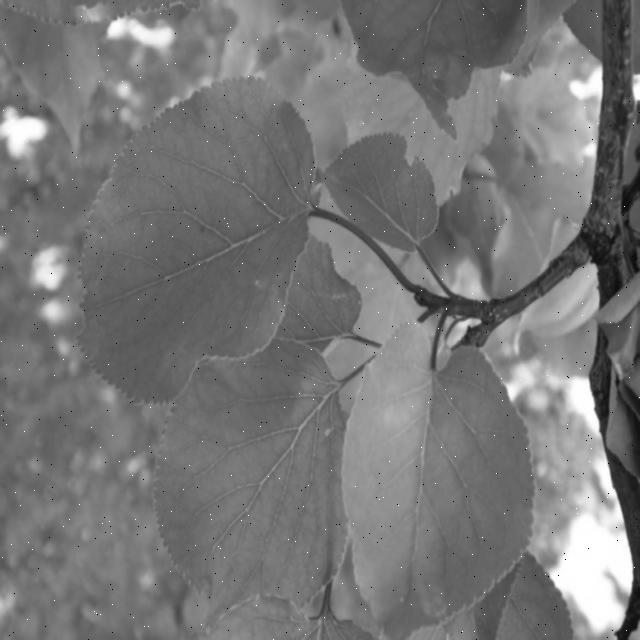Kayisi Yapragi: (77, 78, 313, 402), (345, 313, 531, 640), (153, 343, 345, 630)
